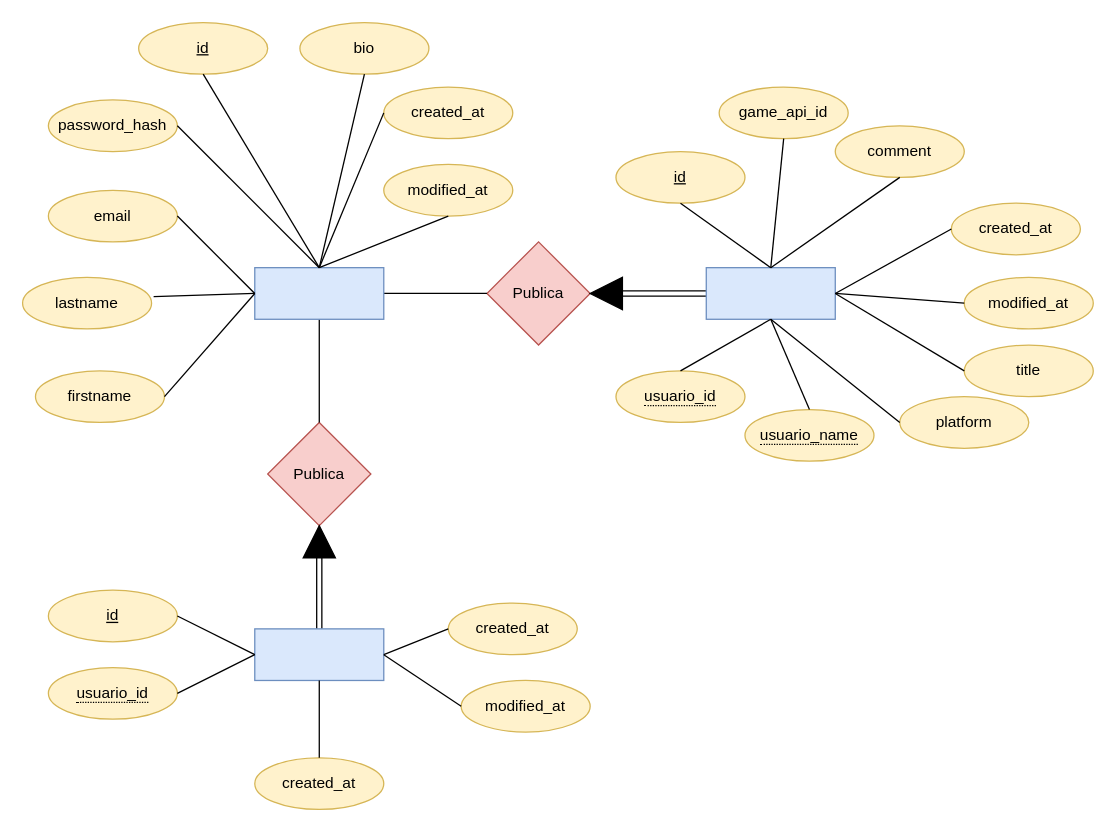
This 1116x832 diagram has some shape labels left out. Each missing label, with the centre of its shape:
"Rating" belongs at point 318,654.
"Review" belongs at point 770,292.
"Usuario" belongs at point 318,292.
